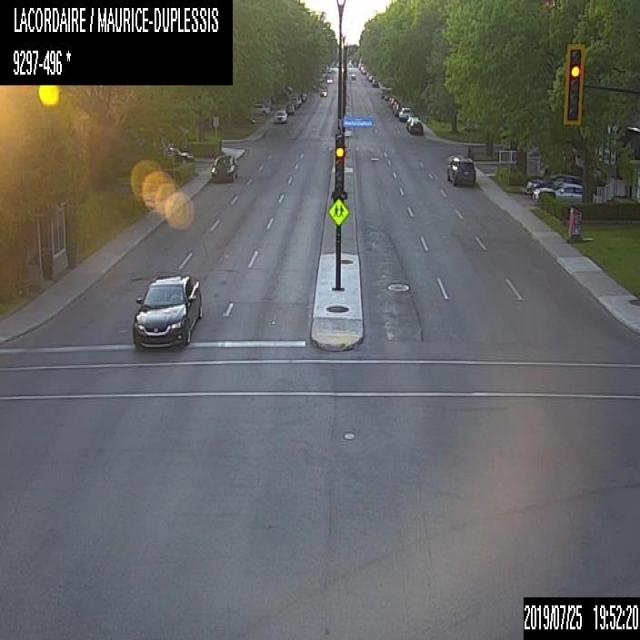vehicle: (129, 274, 203, 349), (532, 182, 597, 204), (527, 172, 583, 192), (446, 155, 476, 184), (211, 152, 236, 180), (163, 145, 193, 163), (406, 116, 422, 133), (397, 106, 413, 120), (253, 102, 270, 114), (392, 101, 406, 115), (274, 110, 286, 124), (284, 103, 294, 113), (319, 84, 327, 96), (290, 97, 298, 107), (389, 97, 397, 106), (371, 77, 378, 85), (327, 75, 332, 82), (367, 74, 372, 80), (350, 72, 355, 78)
